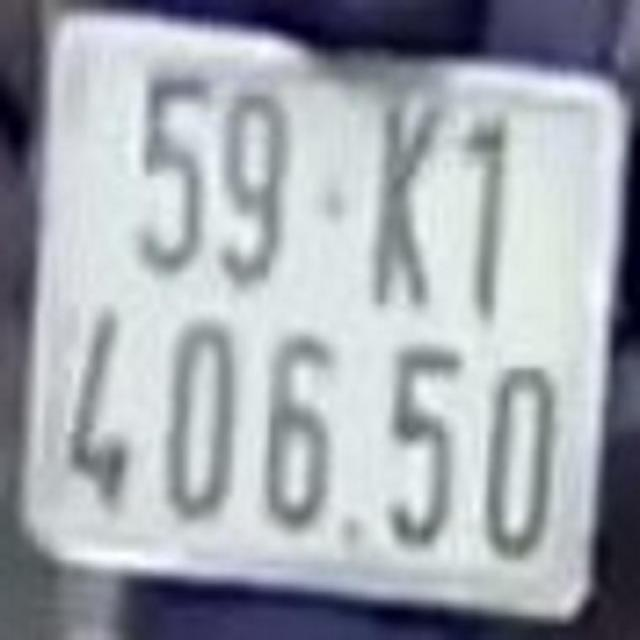0: (158, 299, 245, 536), (481, 336, 565, 568)
1: (459, 87, 529, 329)
4: (55, 303, 149, 523)
5: (378, 333, 473, 568)
6: (257, 294, 347, 542)
9: (118, 52, 216, 300), (215, 64, 296, 301)
K: (359, 72, 452, 326)
